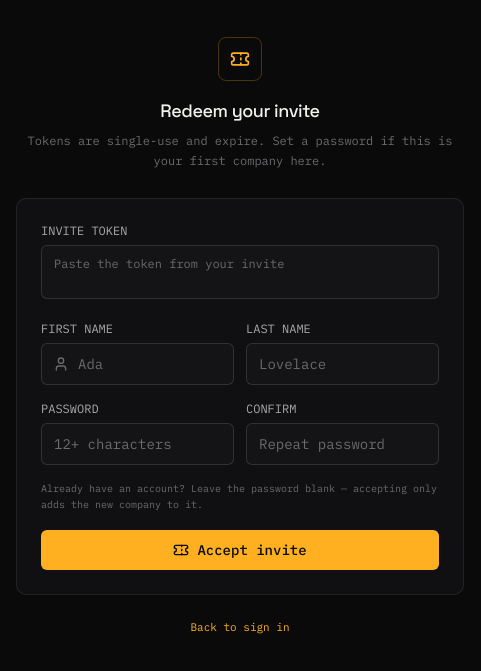
it: AcceptInvite accessibility and reliability › keeps the invite token out of the rendered UI and the console on failure
Type "invite-token-9f2c" into the text box labelled "Invite Token". click: [240, 272]
box: [41,245,439,299]
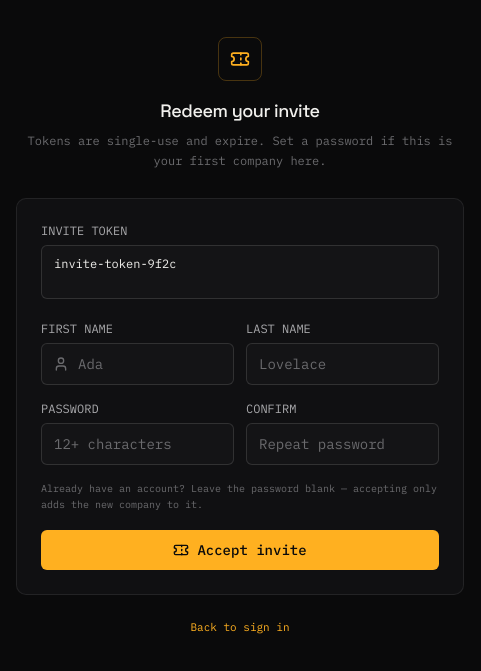
Type "orbital-tangent-9" into the password field labelled "Password". click: [138, 444]
box: [41,423,234,465]
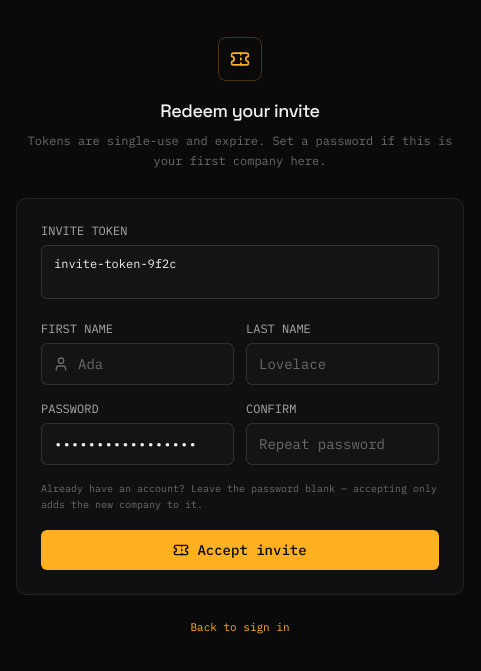
Type "different-value" into the password field labelled "Confirm". click: [342, 444]
box: [246,423,439,465]
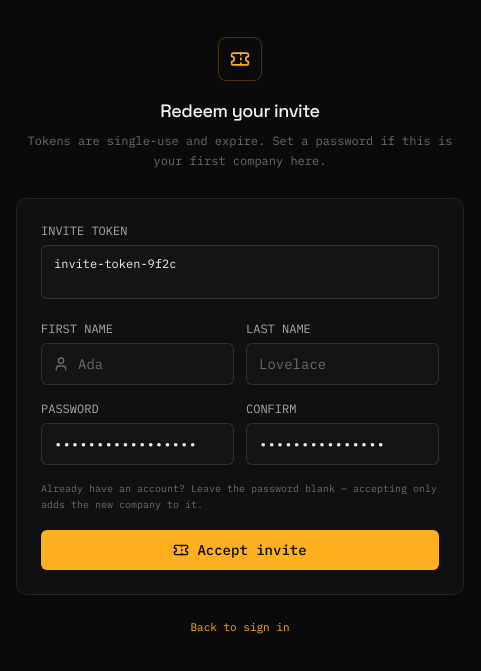
Submit the form, box [16,198,464,594]
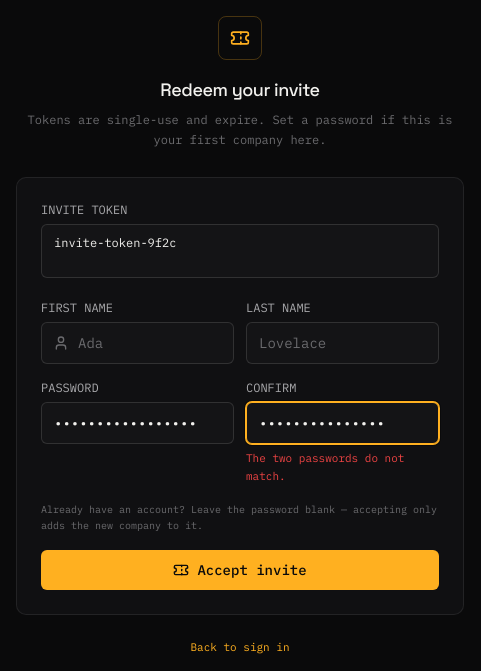
Check: the message reads "The two passwords do not match.", box [246,451,404,483]
